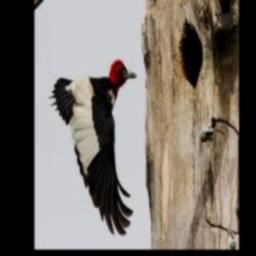Woodpecker: (48, 60, 136, 236)
